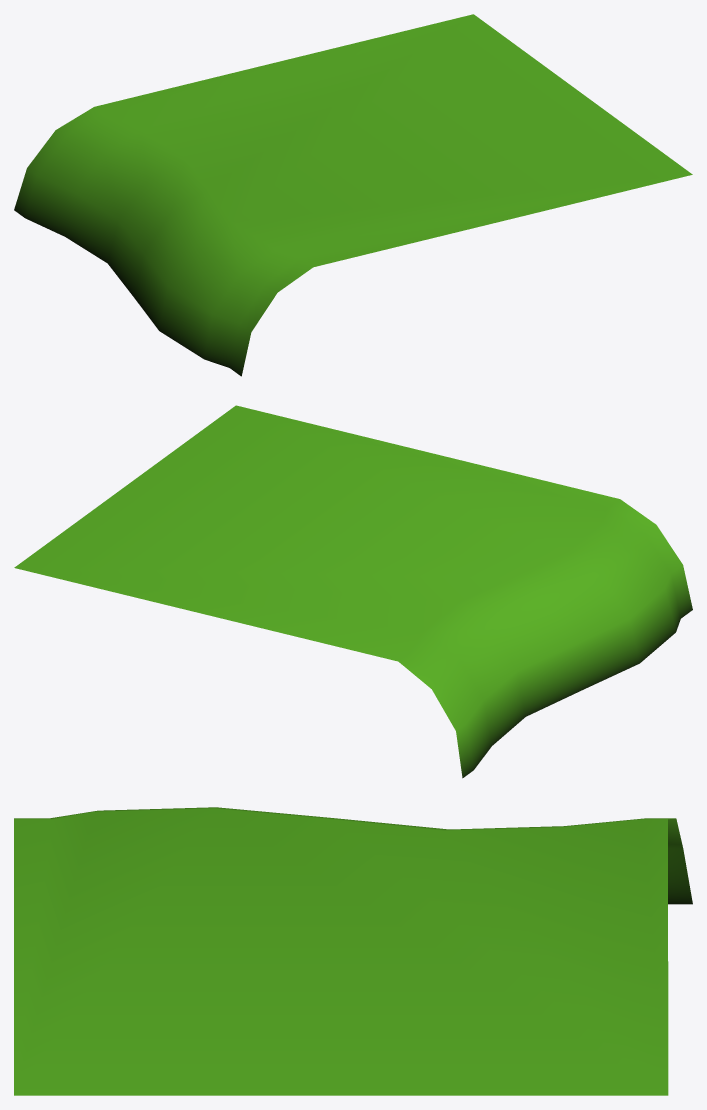
Rendered from Surface_RoadUpInner.fbx.
3 views of the same model, one above another, from view 1: azimuth 30°, elevation 25°; view 2: azimuth 150°, elevation 25°; view 3: azimuth 270°, elevation 25° (orthographic). The views are drawn at different scales.
Parts seen in each view (by area): view 1: Surface_RoadUpInner; view 2: Surface_RoadUpInner; view 3: Surface_RoadUpInner.
Boxes of the visible parts, x1=… form: Surface_RoadUpInner: x1=14, y1=14, x2=692, y2=376; Surface_RoadUpInner: x1=14, y1=405, x2=692, y2=778; Surface_RoadUpInner: x1=14, y1=807, x2=692, y2=1095.
Bounding box in the file's own units: 2202 × 415 × 1861.
